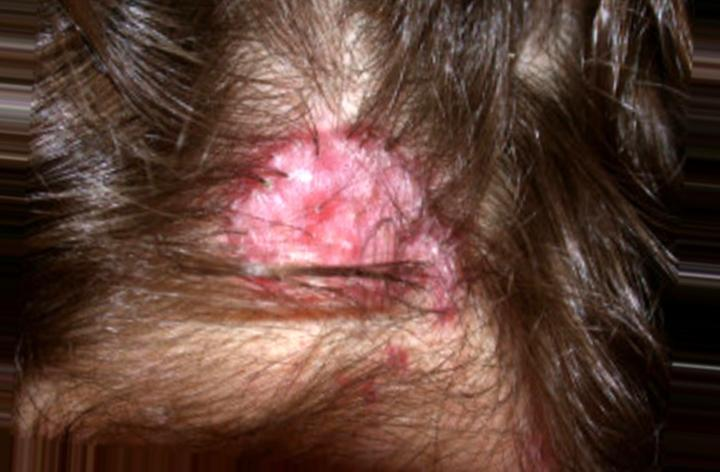Folliculitis: (240, 101, 437, 321)
